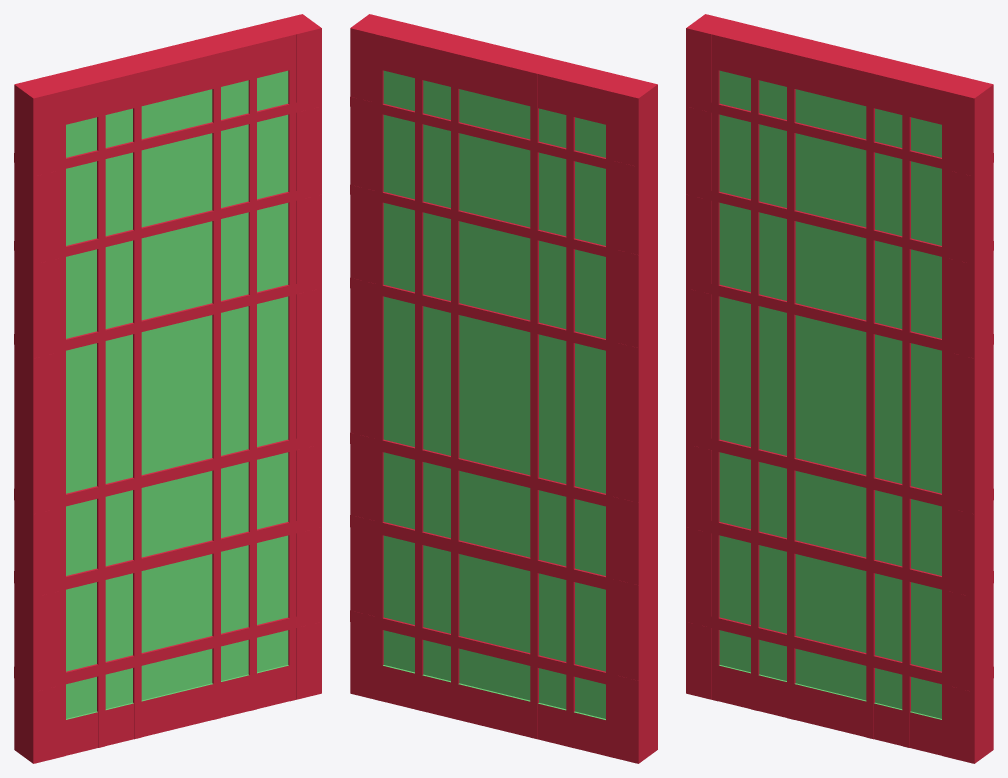
File: TEST_SM_SlidingDoor.fbx
3 views of the same model, side by side, from view 1: azimuth 30°, elevation 25°; view 2: azimuth 150°, elevation 25°; view 3: azimuth 330°, elevation 25° (orthographic).
Visible parts, largest first — view 1: SlidingDoor; view 2: SlidingDoor; view 3: SlidingDoor.
Boxes of the visible parts, x1=… form: SlidingDoor: x1=14, y1=14, x2=321, y2=763; SlidingDoor: x1=350, y1=14, x2=657, y2=763; SlidingDoor: x1=686, y1=14, x2=993, y2=763.
Size of the model in its own units: 225 by 496 by 26.15.
